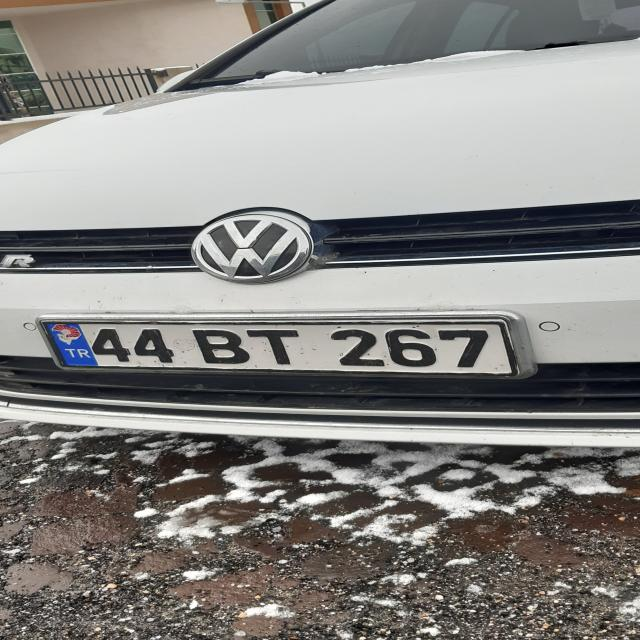license_plate: (43, 320, 520, 377)
